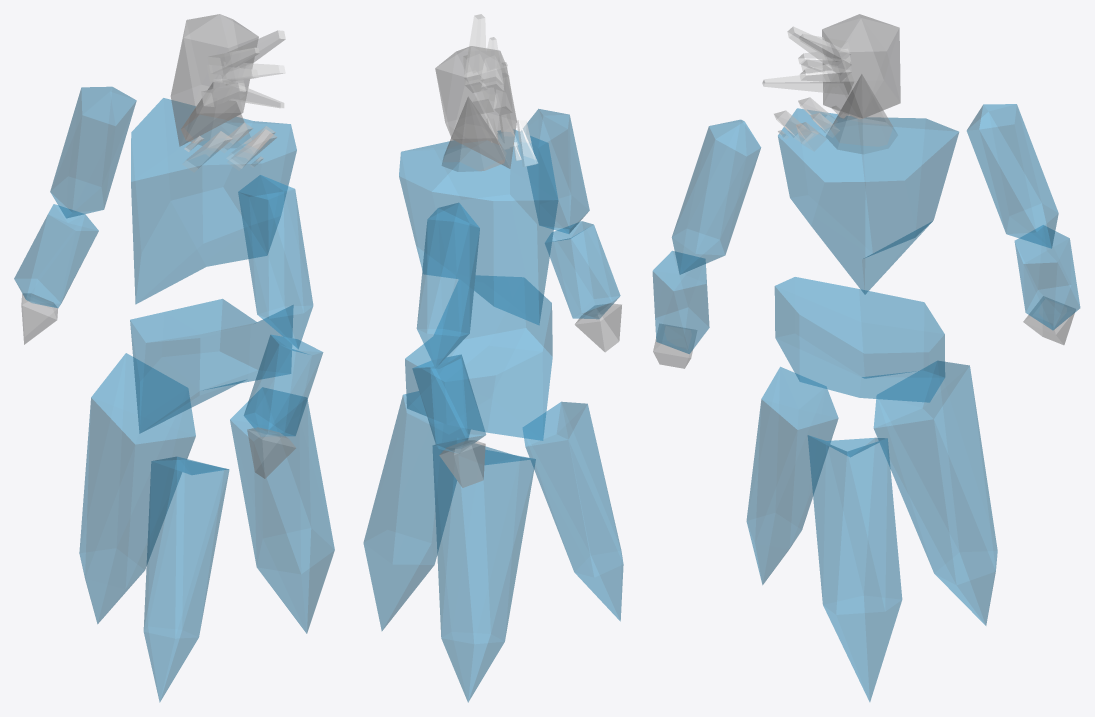
The model's file is ghostChargingLunge4.obj.
3 renders of one model, left to right at view 1: azimuth 30°, elevation 25°; view 2: azimuth 150°, elevation 25°; view 3: azimuth 270°, elevation 25°, orthographic. The views are drawn at different scales.
Visible parts, largest first — view 1: Cube.001_Cube.006, Icosphere.017, Icosphere.016, Cube_Cube.006, Icosphere.015, Icosphere.005_Icosphere.005, Icosphere.003_Icosphere.006, Icosphere.007_Icosphere.005, Icosphere.006_Icosphere.005, Icosphere.008_Icosphere.005, Cone_Cone.006, Cube.002_Cube.006 (+8 smaller); view 2: Cube.001_Cube.006, Cube_Cube.006, Icosphere.017, Icosphere.016, Icosphere.015, Icosphere.007_Icosphere.005, Icosphere.003_Icosphere.006, Icosphere.005_Icosphere.005, Icosphere.006_Icosphere.005, Icosphere.008_Icosphere.005, Cone_Cone.006, Cube.003_Cube.006 (+6 smaller); view 3: Cube.001_Cube.006, Icosphere.017, Icosphere.016, Cube_Cube.006, Icosphere.015, Icosphere.005_Icosphere.005, Icosphere.007_Icosphere.005, Icosphere.003_Icosphere.006, Icosphere.008_Icosphere.005, Icosphere.006_Icosphere.005, Cone_Cone.006, Cube.003_Cube.006 (+4 smaller).
Part boxes in pixels (bbox=[...]): Cube.001_Cube.006: bbox=[131, 98, 296, 304]; Icosphere.017: bbox=[79, 353, 195, 623]; Icosphere.016: bbox=[230, 387, 334, 633]; Cube_Cube.006: bbox=[130, 299, 293, 433]; Icosphere.015: bbox=[143, 456, 229, 702]; Icosphere.005_Icosphere.005: bbox=[238, 175, 313, 349]; Icosphere.003_Icosphere.006: bbox=[170, 14, 258, 146]; Icosphere.007_Icosphere.005: bbox=[50, 86, 136, 218]; Icosphere.006_Icosphere.005: bbox=[244, 334, 323, 436]; Icosphere.008_Icosphere.005: bbox=[14, 204, 98, 307]; Cone_Cone.006: bbox=[181, 82, 250, 147]; Cube.002_Cube.006: bbox=[247, 427, 295, 478]; Cube.001_Cube.006: bbox=[399, 130, 558, 325]; Cube_Cube.006: bbox=[405, 275, 552, 440]; Icosphere.017: bbox=[432, 438, 535, 702]; Icosphere.016: bbox=[363, 391, 470, 630]; Icosphere.015: bbox=[523, 401, 623, 621]; Icosphere.007_Icosphere.005: bbox=[416, 202, 479, 367]; Icosphere.003_Icosphere.006: bbox=[435, 46, 516, 168]; Icosphere.005_Icosphere.005: bbox=[521, 109, 589, 233]; Icosphere.006_Icosphere.005: bbox=[545, 221, 620, 318]; Icosphere.008_Icosphere.005: bbox=[412, 354, 485, 453]; Cone_Cone.006: bbox=[442, 97, 504, 171]; Cube.003_Cube.006: bbox=[439, 440, 485, 487]; Cube.001_Cube.006: bbox=[778, 108, 958, 294]; Icosphere.017: bbox=[873, 361, 997, 625]; Icosphere.016: bbox=[807, 435, 902, 701]; Cube_Cube.006: bbox=[774, 277, 945, 402]; Icosphere.015: bbox=[746, 367, 838, 584]; Icosphere.005_Icosphere.005: bbox=[672, 119, 760, 274]; Icosphere.007_Icosphere.005: bbox=[967, 104, 1058, 248]; Icosphere.003_Icosphere.006: bbox=[822, 14, 900, 118]; Icosphere.008_Icosphere.005: bbox=[1014, 225, 1080, 330]; Icosphere.006_Icosphere.005: bbox=[652, 251, 709, 353]; Cone_Cone.006: bbox=[826, 74, 897, 154]; Cube.003_Cube.006: bbox=[1023, 296, 1075, 344].
Size of the model in its own units: 17.11 by 47.58 by 28.66.
